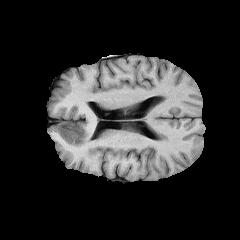glioma: (58, 121, 91, 147)
